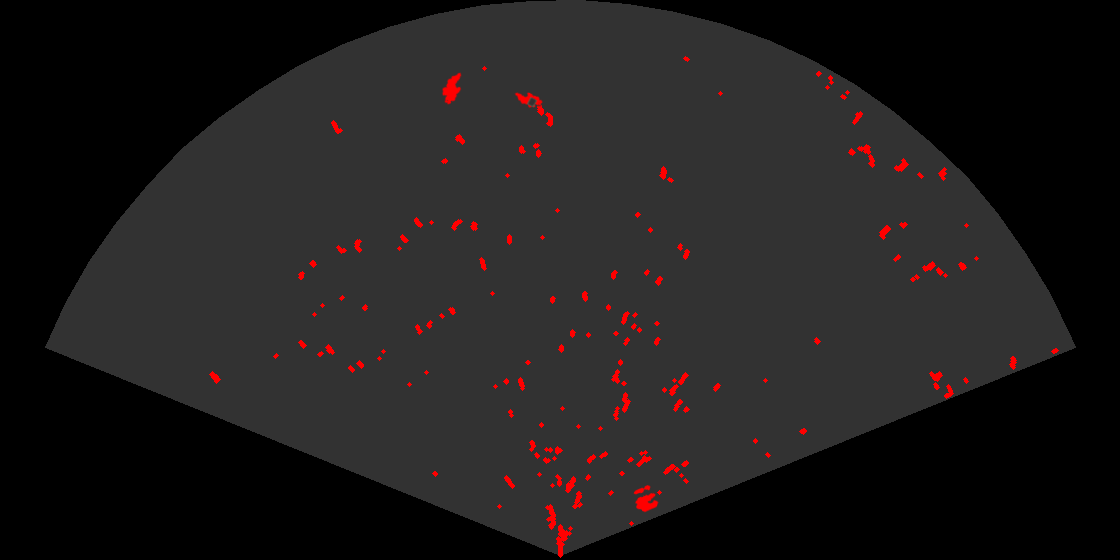AUV: (440, 71, 463, 106), (513, 91, 544, 110)
ball: (632, 483, 660, 514)
